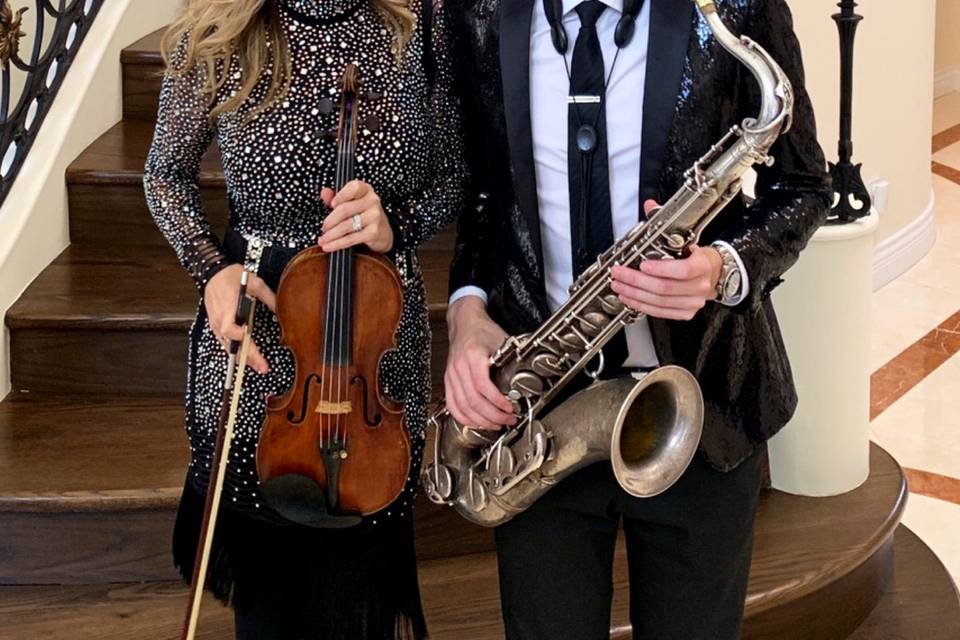Saxophone: (437, 28, 870, 559)
Violin: (166, 58, 456, 636)
